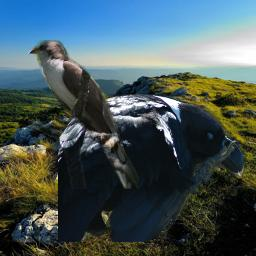Crow: (58, 94, 247, 242)
Cuckoo: (28, 40, 141, 189)
